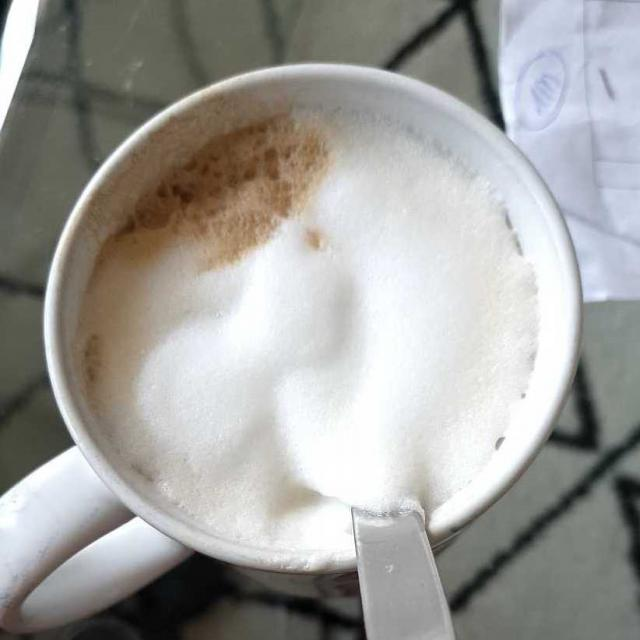cappuccino: (83, 113, 535, 552)
